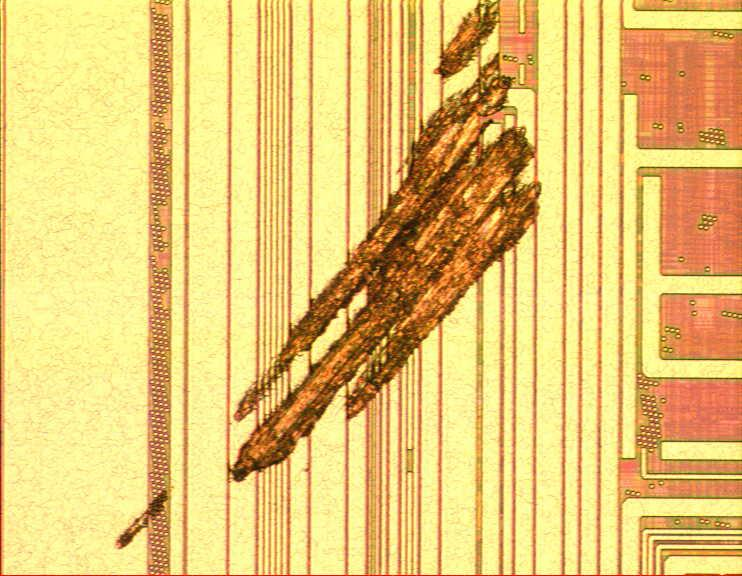SCRATCH: (104, 1, 556, 562)
